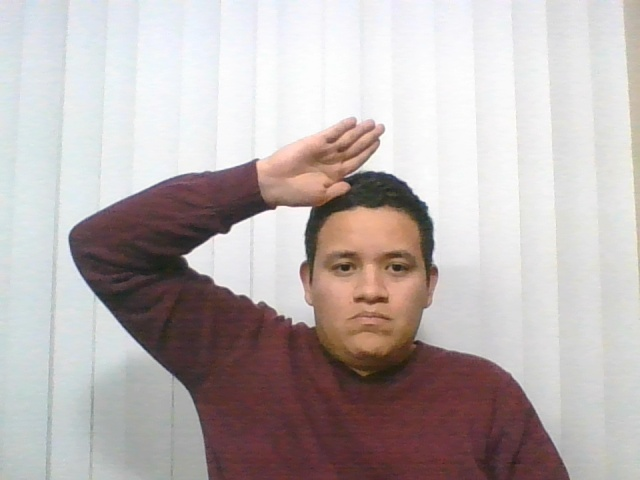Dad: (213, 100, 422, 242)
